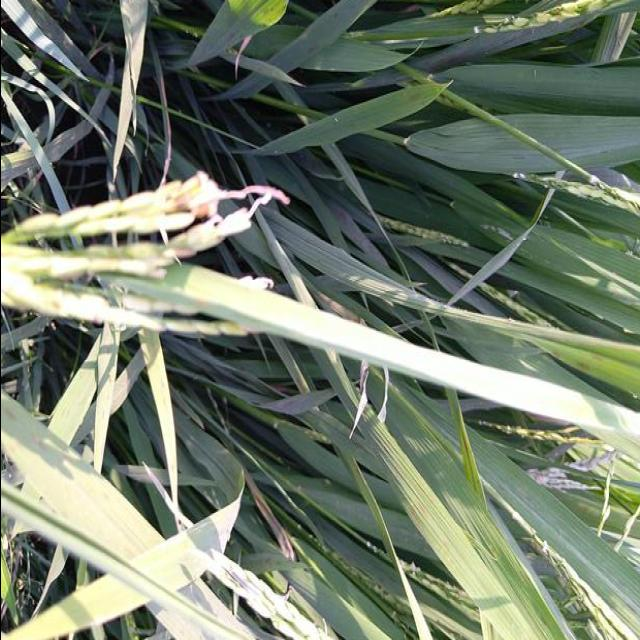Panicle Blight: (164, 171, 267, 230), (43, 301, 102, 326), (157, 241, 201, 269)
